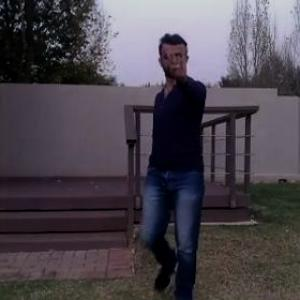takeoff-hand: (158, 38, 190, 80)
